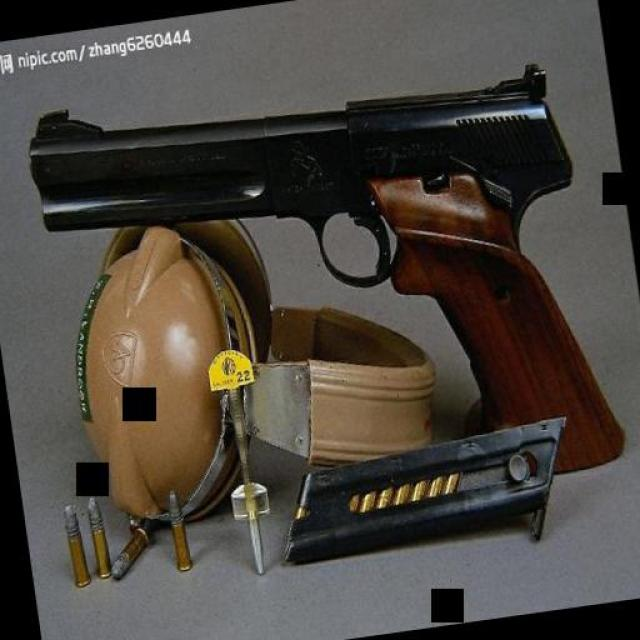gun: (16, 30, 630, 550)
